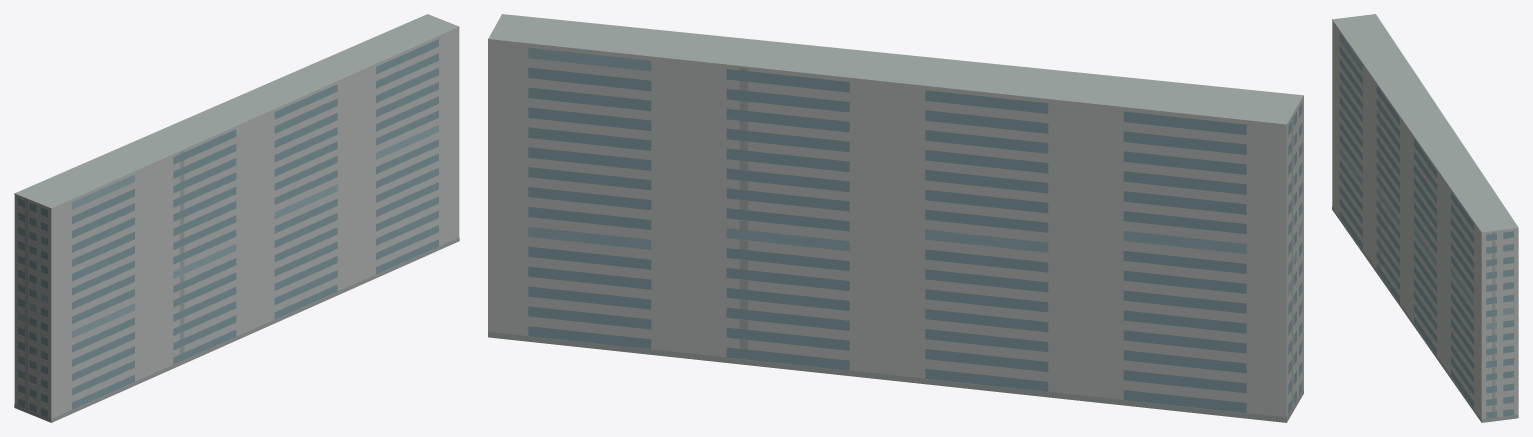
Rendered from residential-e0e64ef9-6415-4497-9a70-4b7bb196a3e2.glb.
3 views of the same model, side by side, from view 1: azimuth 30°, elevation 25°; view 2: azimuth 150°, elevation 25°; view 3: azimuth 270°, elevation 25° (orthographic). The views are drawn at different scales.
Parts seen in each view (by area): view 1: residential-e0e64ef9-6415-4497-9a70-4b7bb196a3e2.tmp; view 2: residential-e0e64ef9-6415-4497-9a70-4b7bb196a3e2.tmp; view 3: residential-e0e64ef9-6415-4497-9a70-4b7bb196a3e2.tmp.
Part boxes in pixels (left/top/right/bottom): residential-e0e64ef9-6415-4497-9a70-4b7bb196a3e2.tmp: left=14, top=14, right=459, bottom=422; residential-e0e64ef9-6415-4497-9a70-4b7bb196a3e2.tmp: left=488, top=14, right=1303, bottom=422; residential-e0e64ef9-6415-4497-9a70-4b7bb196a3e2.tmp: left=1332, top=14, right=1518, bottom=422.
Size of the model in its own units: 113 by 45.75 by 40.64.
